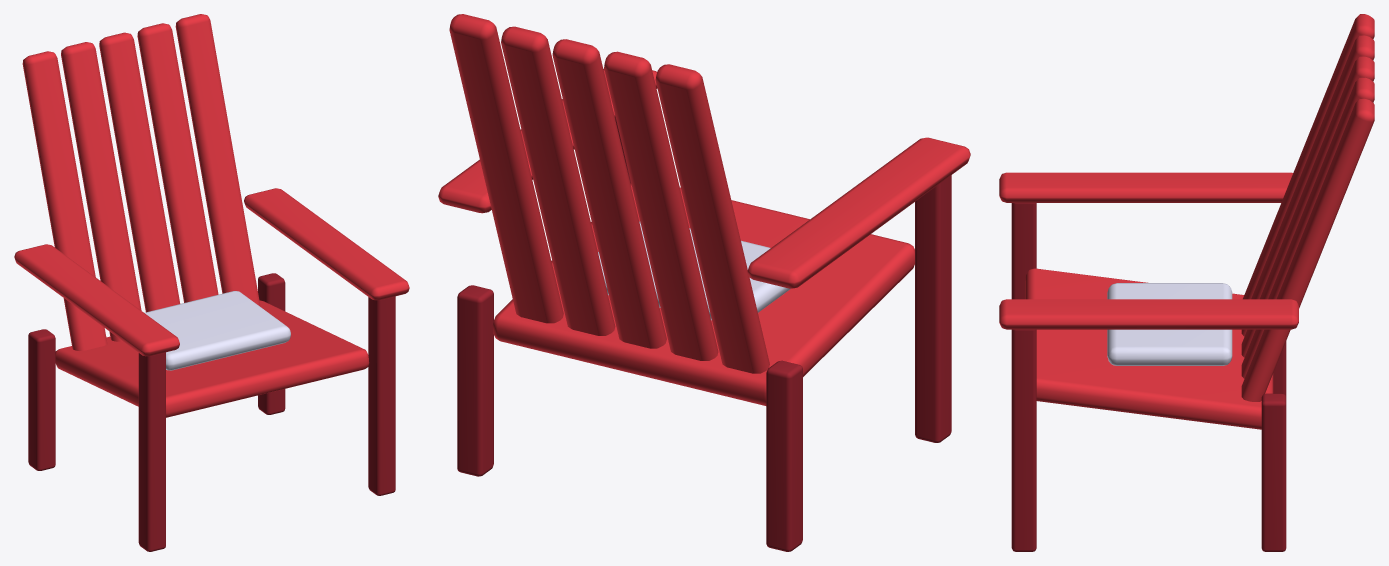
File: frost_chair.glb
The picture shows the model from 3 angles, left to right: view 1: azimuth 30°, elevation 25°; view 2: azimuth 150°, elevation 25°; view 3: azimuth 270°, elevation 25°; orthographic projection. The views are drawn at different scales.
Visible parts, largest first — view 1: Chair; view 2: Chair; view 3: Chair.
Boxes of the visible parts, <box> form: Chair: <box>14,14,409,551</box>; Chair: <box>438,14,970,551</box>; Chair: <box>999,14,1374,551</box>.
Size of the model in its own units: 0.84 by 1.12 by 0.902.
